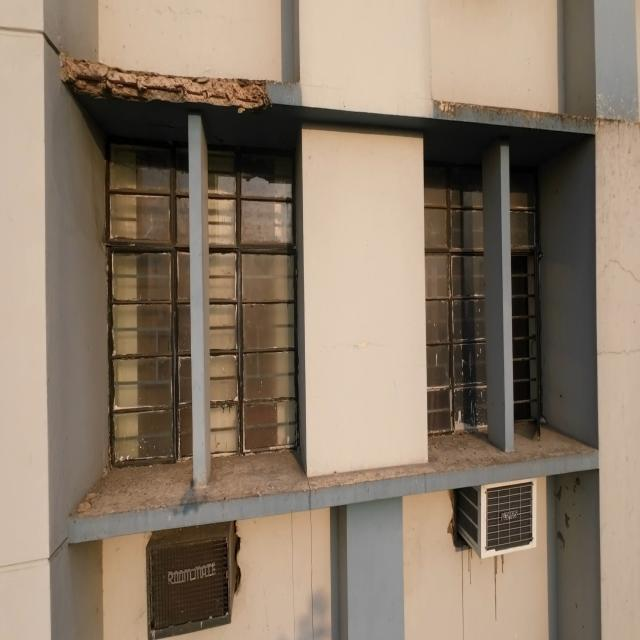spalling: (58, 46, 280, 120)
